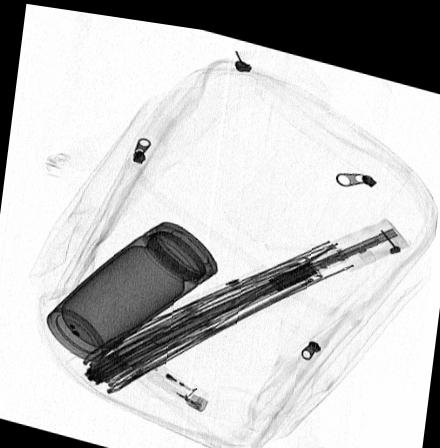Lighter: (143, 358, 210, 406)
